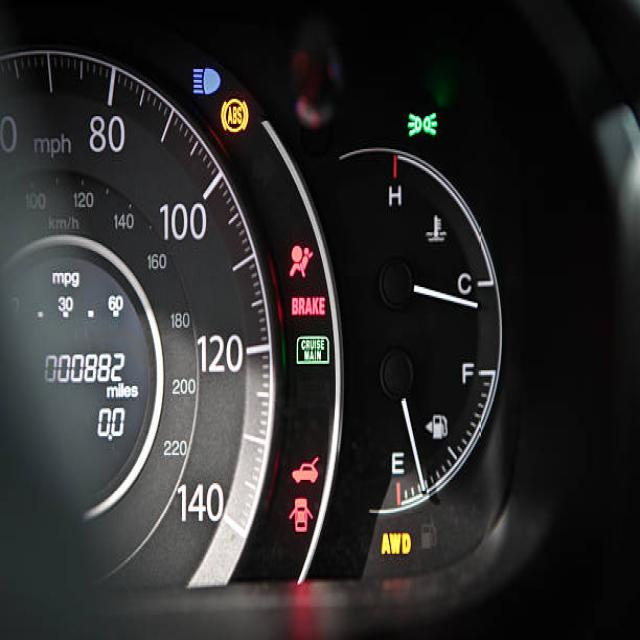Anti Lock Braking System: (218, 94, 252, 137)
Braking System Issue: (289, 293, 328, 320)
SRS-Airbag: (286, 240, 316, 282)
